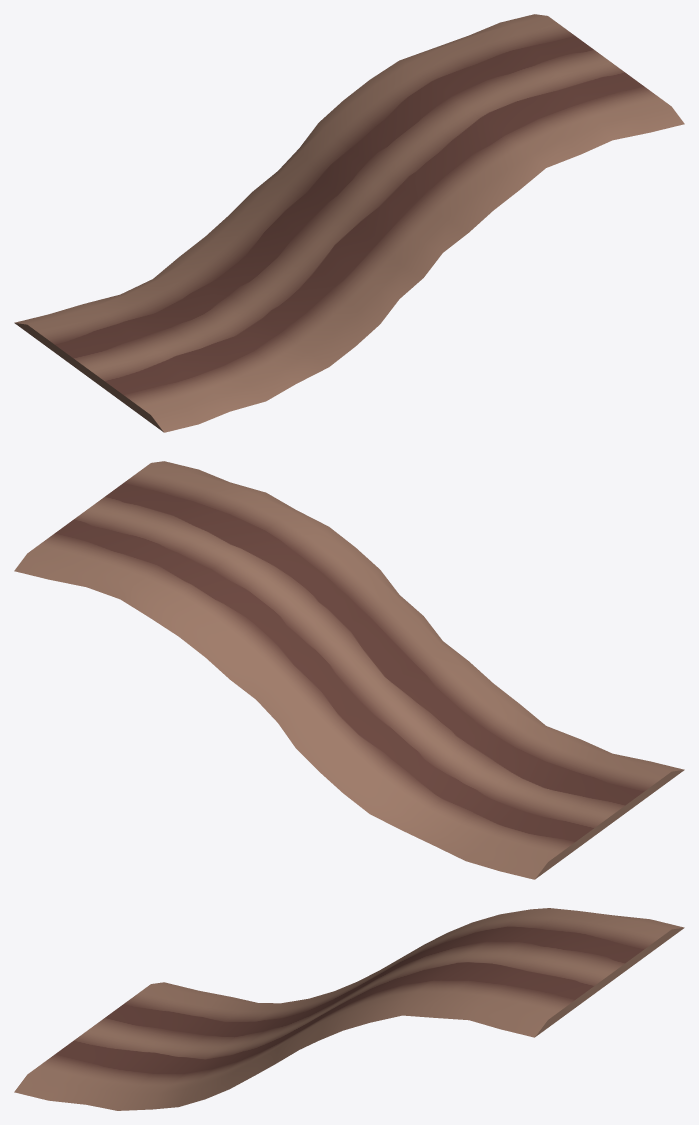
Rendered from Dirt_Road_1_Hill_1.fbx.
3 views of the same model, one above another, from view 1: azimuth 30°, elevation 25°; view 2: azimuth 150°, elevation 25°; view 3: azimuth 330°, elevation 25° (orthographic).
Parts seen in each view (by area): view 1: Dirt_Road_1_Hill_1; view 2: Dirt_Road_1_Hill_1; view 3: Dirt_Road_1_Hill_1.
Boxes of the visible parts, left/top/right/bottom form: Dirt_Road_1_Hill_1: left=14, top=14, right=684, bottom=432; Dirt_Road_1_Hill_1: left=14, top=461, right=684, bottom=879; Dirt_Road_1_Hill_1: left=14, top=908, right=684, bottom=1110.
Size of the model in its own units: 12 by 4.18 by 6.
